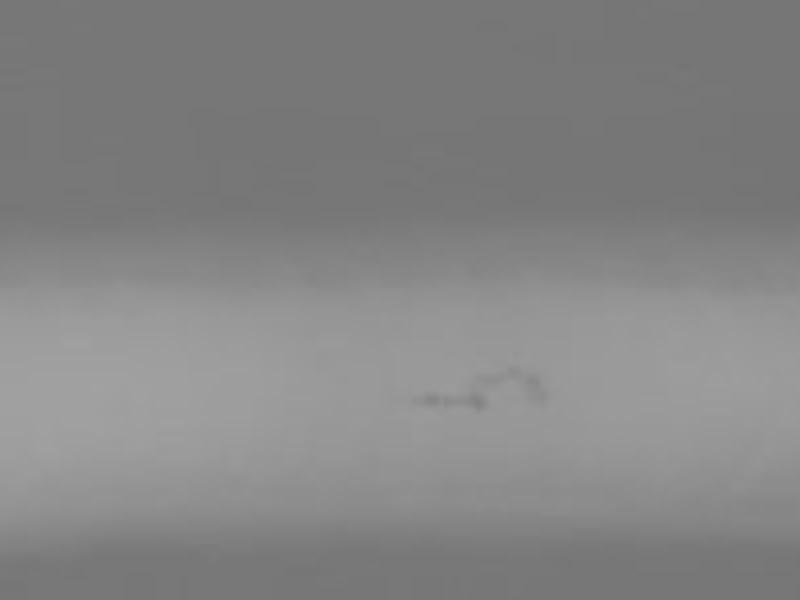defect: (481, 364, 524, 385), (422, 390, 463, 411), (529, 375, 551, 409), (467, 384, 492, 411)
